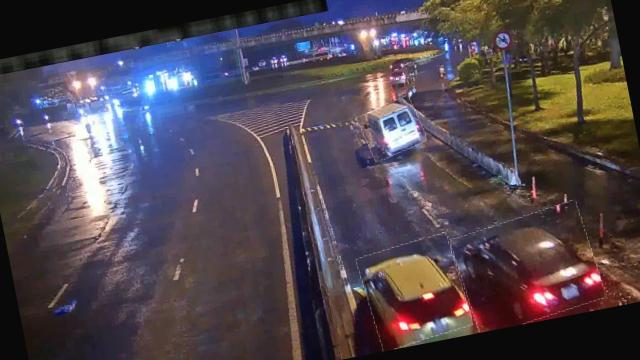Bus: (358, 96, 428, 160)
Car: (451, 201, 606, 333), (357, 232, 473, 350)
